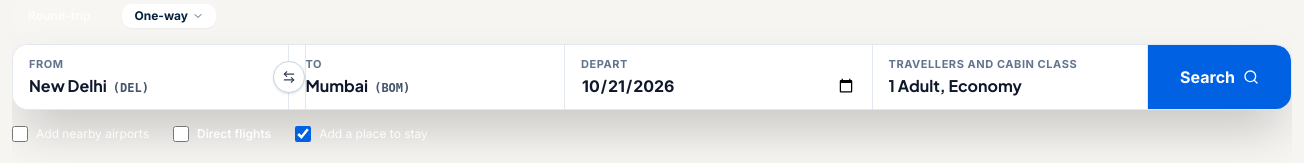
Test: FlightSearchForm Component › swaps origin and destination airports when clicking swap button
The image size is (1304, 163).
Click the button named "swap origin and destination airports" at (288, 77), box [272,61,304,93]
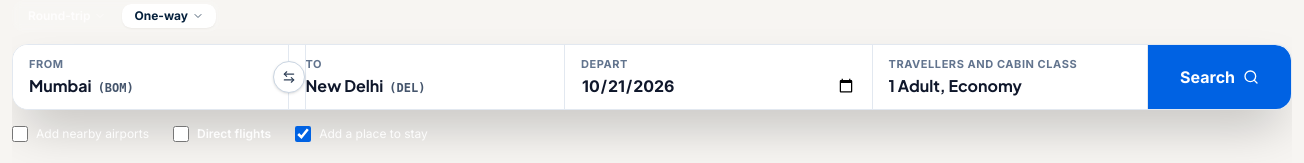
Expected: the dropdown named "from: mumbai" is shown, [13,45,288,109]
Expected: the dropdown named "to: new delhi" is shown, [290,45,564,109]
